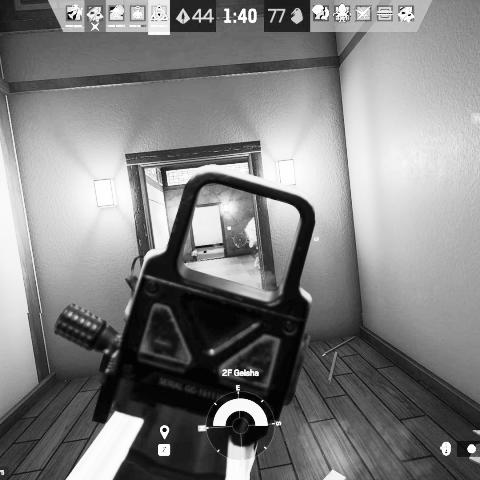Character: (248, 218, 261, 271)
